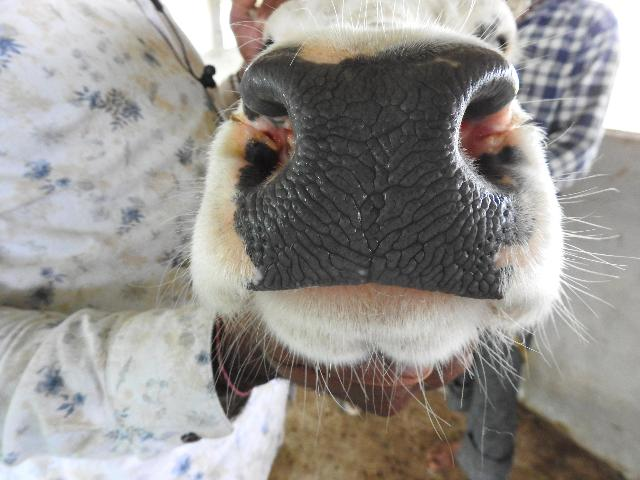Muzzle: (258, 64, 486, 290)
